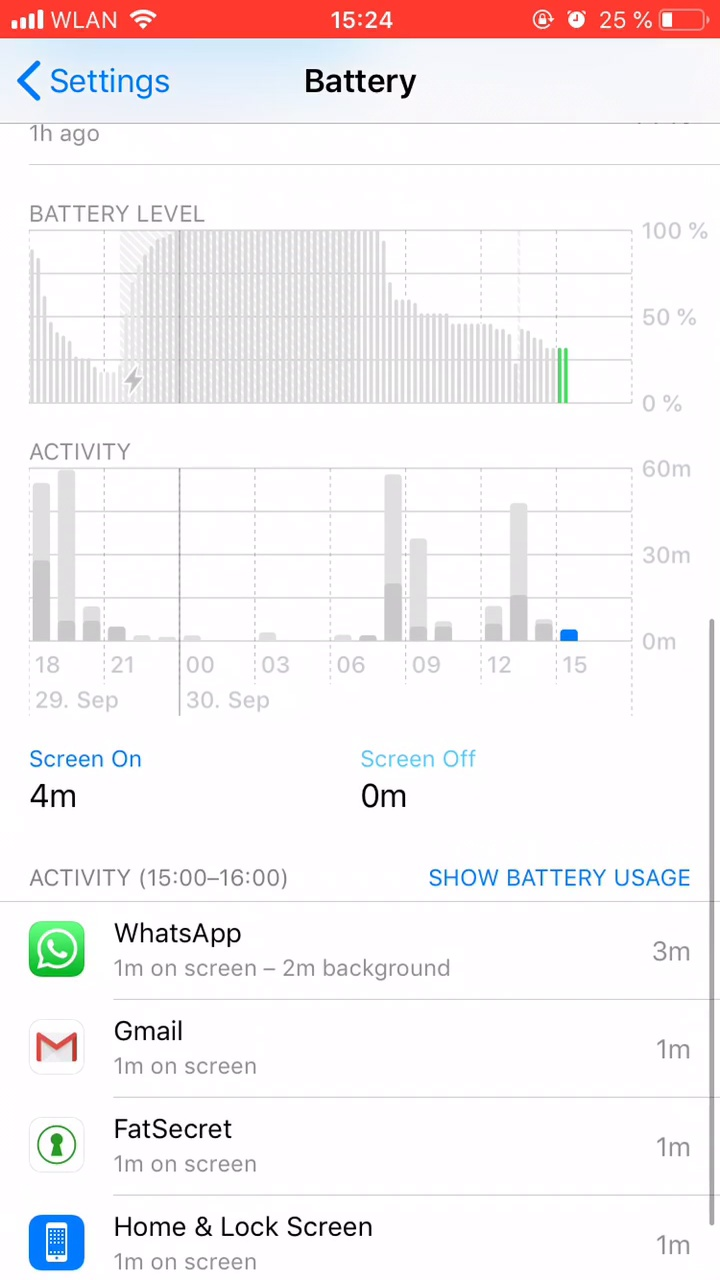activity: (10, 862, 316, 894)
app: (10, 1003, 702, 1083), (12, 1108, 702, 1180), (24, 1210, 709, 1276), (14, 919, 696, 985)
